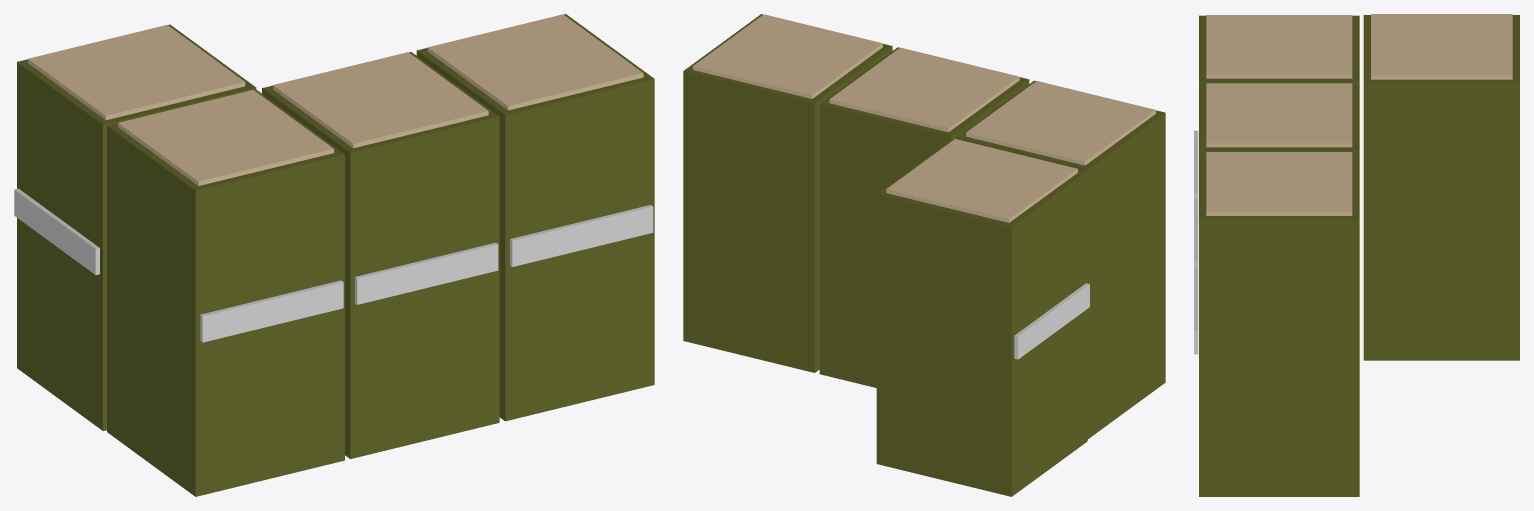
File: SM_HescoRemate_v1_Geotextil_e0_Sano_LOD1.fbx
3 renders of one model, left to right at view 1: azimuth 30°, elevation 25°; view 2: azimuth 150°, elevation 25°; view 3: azimuth 270°, elevation 25°, orthographic. The views are drawn at different scales.
Parts seen in each view (by area): view 1: SM_hesco_piezas_v24_LOD1; view 2: SM_hesco_piezas_v24_LOD1; view 3: SM_hesco_piezas_v24_LOD1.
Part boxes in pixels (x1=…): SM_hesco_piezas_v24_LOD1: x1=14, y1=14, x2=654, y2=496; SM_hesco_piezas_v24_LOD1: x1=683, y1=14, x2=1165, y2=496; SM_hesco_piezas_v24_LOD1: x1=1194, y1=14, x2=1519, y2=496.
Bounding box in the file's own units: 3.34 × 2.13 × 2.23.
